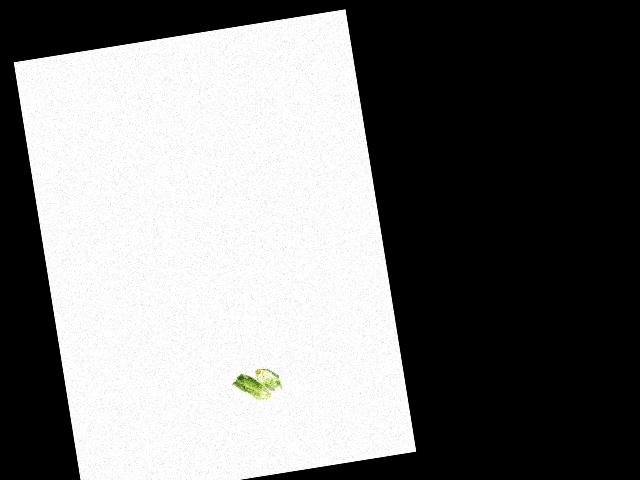lettuce: (231, 359, 285, 405)
